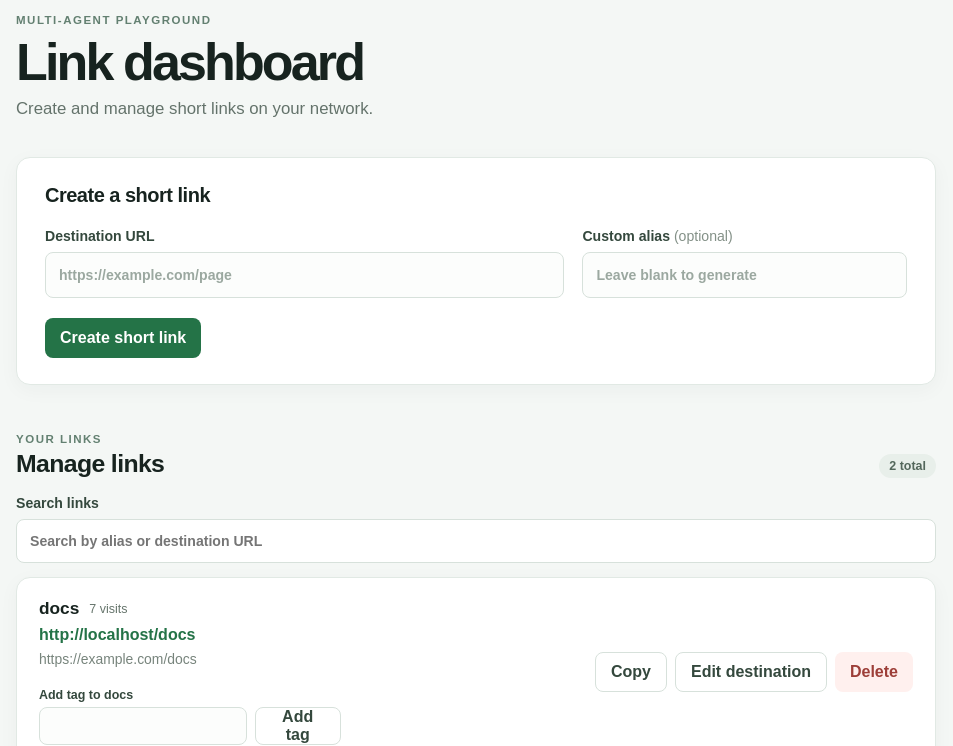
Scenario: link dashboard › filters links by destination URL
Expected: the heading "docs" is shown, left=39, top=598, right=79, bottom=619
Type "news.example" into the search field labelled "Search links" at (476, 541), box left=16, top=519, right=936, bottom=563
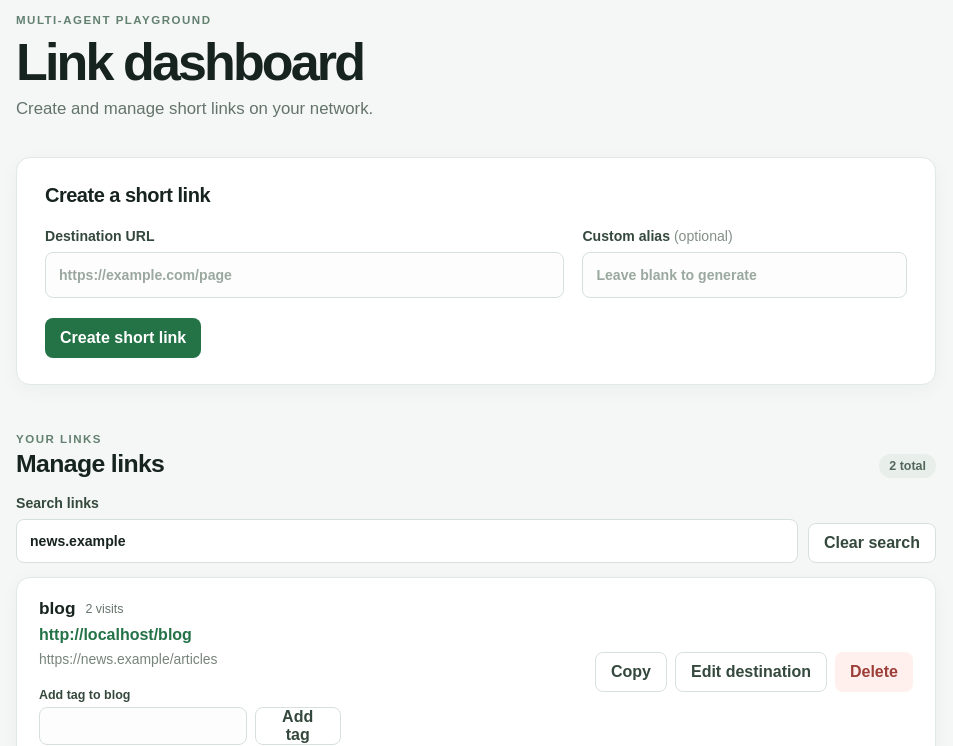
Expected: the heading "blog" is shown, left=39, top=598, right=75, bottom=619
Expected: the heading "docs" is gone
